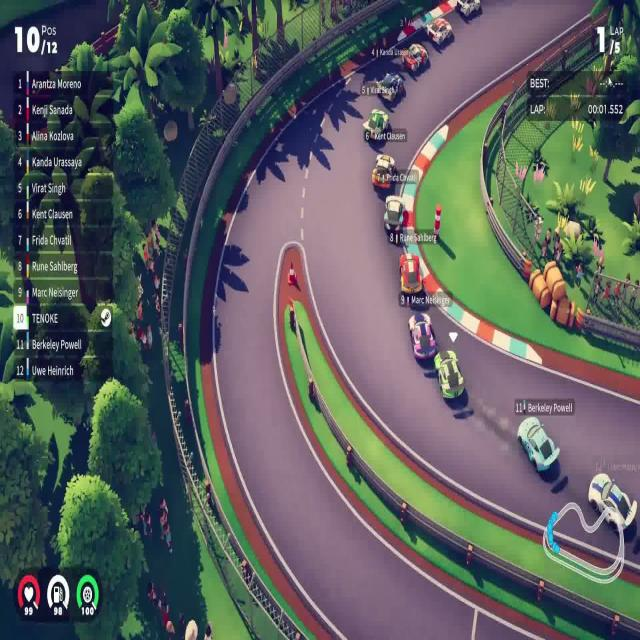car: (587, 471, 637, 532), (516, 414, 560, 474), (433, 348, 465, 401), (408, 311, 437, 362), (398, 249, 424, 299), (383, 194, 407, 245), (362, 107, 392, 142), (371, 153, 397, 191), (375, 70, 405, 102), (400, 42, 429, 74), (426, 17, 453, 48)
